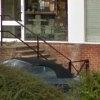stairs: (16, 44, 66, 67)
